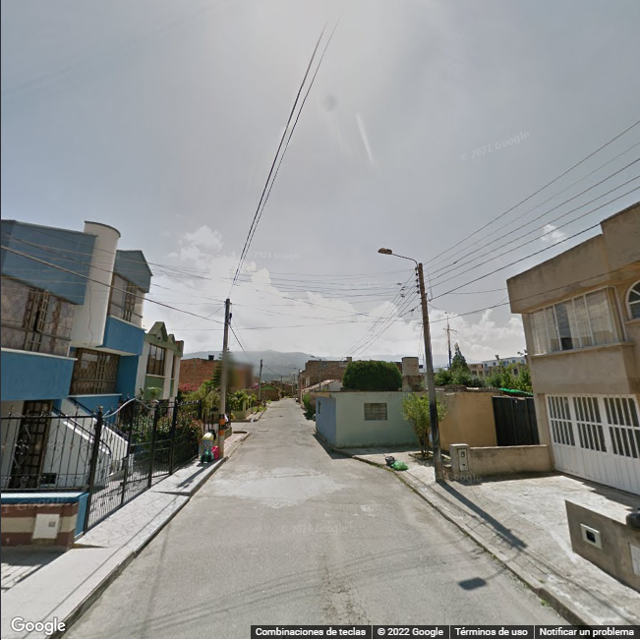D00: (320, 548, 332, 592)
D20: (325, 606, 370, 626)
